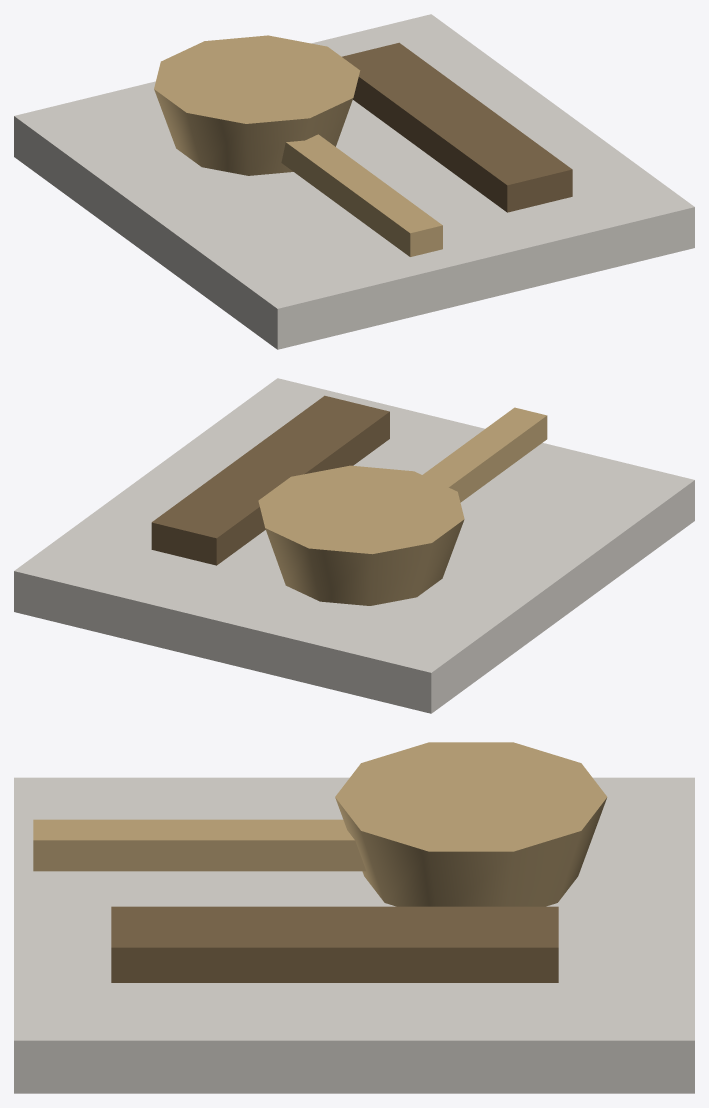
File: SV_MP_SKU_09_v01_lod2.glb
The picture shows the model from 3 angles, top to bottom: view 1: azimuth 30°, elevation 25°; view 2: azimuth 150°, elevation 25°; view 3: azimuth 270°, elevation 25°; orthographic projection. The views are drawn at different scales.
Parts seen in each view (by area): view 1: mproto_SV_MP_SKU_09_v01; view 2: mproto_SV_MP_SKU_09_v01; view 3: mproto_SV_MP_SKU_09_v01.
Part boxes in pixels (x1,y1,x2,y2): mproto_SV_MP_SKU_09_v01: [14, 14, 694, 349]; mproto_SV_MP_SKU_09_v01: [14, 378, 694, 713]; mproto_SV_MP_SKU_09_v01: [14, 742, 694, 1093].
Size of the model in its own units: 0.064 by 0.015 by 0.07.
